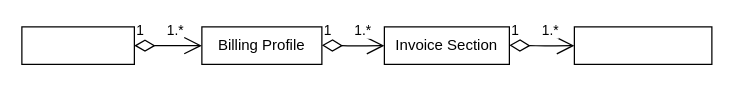
This 734x89 diagram has some shape labels left out. The centre of each missing label's shape, as x and y in pixels:
Azure Subscription: (x=642, y=45)
Billing Account: (x=77, y=45)
